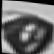correct: (0, 8, 54, 54)
